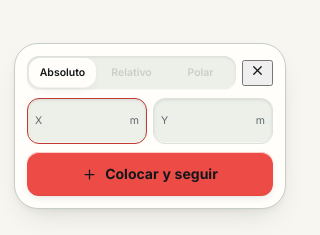
Test case: CoordinateEntry · el punto que produce › no coloca nada mientras los dos campos no sean números
In the field labelled "X m": (86, 121) [49,99,123,143], type "3"
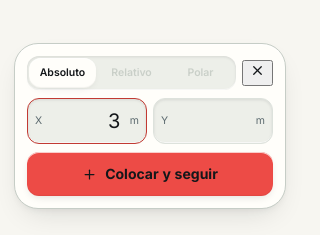
Click the button "Colocar y seguir": (150, 174) [27,152,273,196]
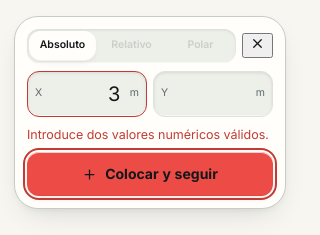
Now the message "Introduce dos valores numéricos válidos." is shown, box [27,125,273,144]
